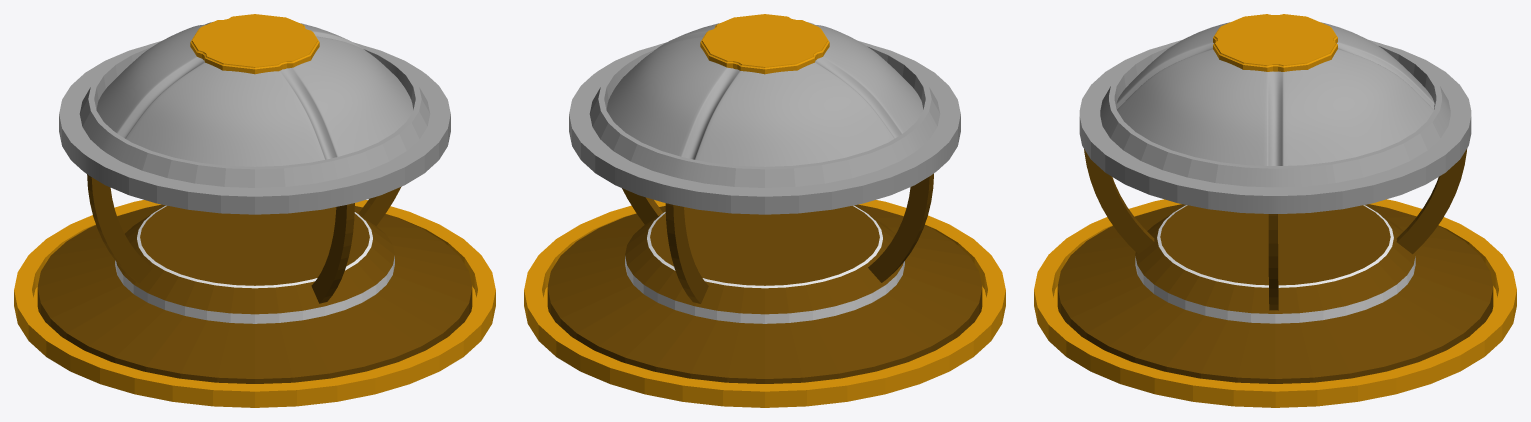
Rendered from ornateTable_4.fbx.
The picture shows the model from 3 angles, left to right: view 1: azimuth 30°, elevation 25°; view 2: azimuth 150°, elevation 25°; view 3: azimuth 270°, elevation 25°; orthographic projection.
Parts seen in each view (by area): view 1: polySurface18, polySurface10, pCylinder5, polySurface19, polySurface16, pCube5, pCube4, pCube6; view 2: polySurface18, polySurface10, pCylinder5, polySurface19, polySurface16, pCube5, pCube7, pCube6; view 3: polySurface18, polySurface10, pCylinder5, polySurface19, polySurface16, pCube7, pCube4, pCube6.
Part boxes in pixels (x1,y1,x2,y2): polySurface18: (37,204,472,383); polySurface10: (96,22,413,166); pCylinder5: (59,41,450,214); polySurface19: (14,200,495,407); polySurface16: (190,14,319,74); pCube5: (87,174,152,283); pCube4: (311,203,354,303); pCube6: (358,186,401,226); polySurface18: (547,204,982,383); polySurface10: (606,22,923,166); pCylinder5: (569,41,960,214); polySurface19: (524,200,1005,407); polySurface16: (700,14,829,74); pCube5: (868,173,933,282); pCube7: (665,203,708,303); pCube6: (622,188,662,224); polySurface18: (1057,204,1493,383); polySurface10: (1116,22,1434,165); pCylinder5: (1079,39,1471,213); polySurface19: (1034,199,1516,407); polySurface16: (1213,14,1337,71); pCube7: (1396,148,1467,254); pCube4: (1084,149,1154,254); pCube6: (1268,214,1278,310).
Bounding box in the file's own units: 4.88 × 2.97 × 4.88.
